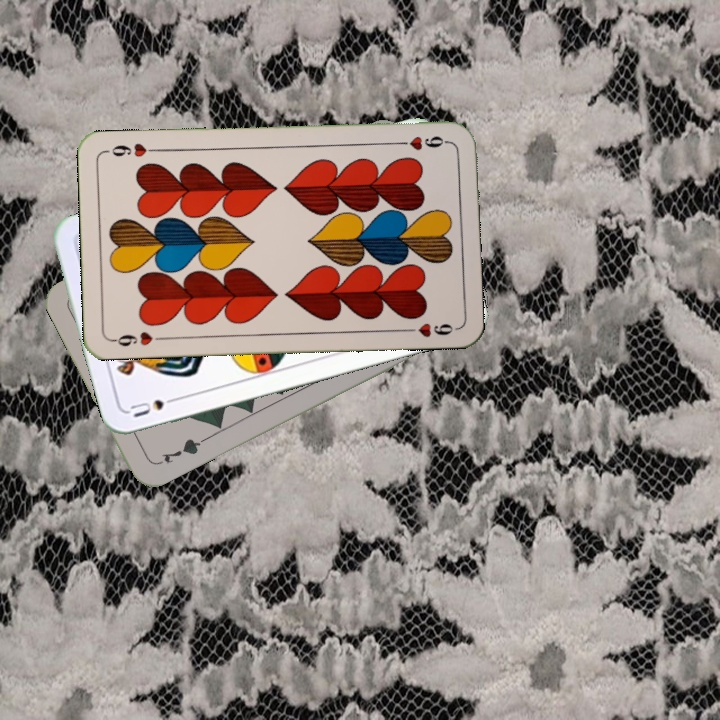G7: (152, 434, 207, 468)
H9: (108, 328, 167, 349), (392, 132, 451, 153)
SU: (126, 392, 183, 420)
